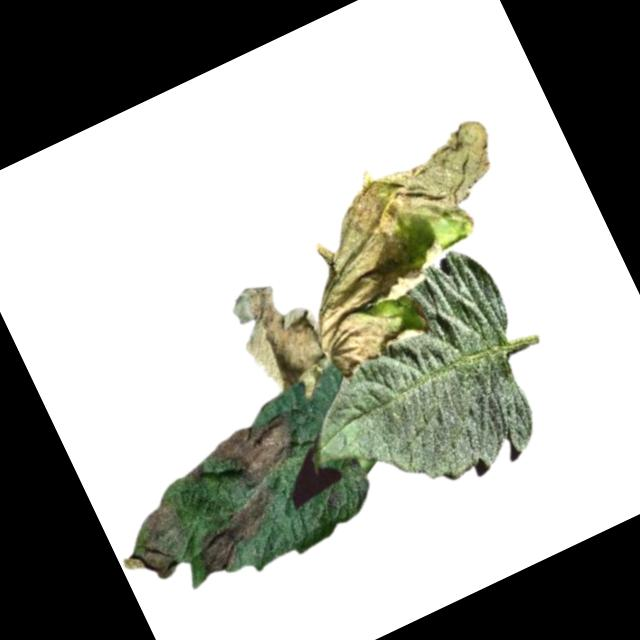Late_blight: (263, 110, 557, 379), (221, 267, 344, 413), (180, 479, 297, 581), (105, 492, 207, 593), (208, 406, 311, 497), (184, 461, 212, 487)
healthy: (261, 238, 567, 534)
